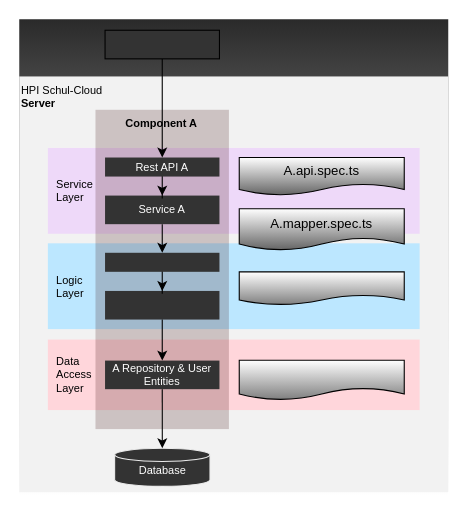
This 466x515 diagram has some shape labels left out. Here are the shapes that lost their labels. From the top down, the centre of each, then its label:
[161,44]: HPI Clients
[162,261]: A UseCase Facade
[162,304]: A UserCase(s)
[321,288]: A.uc.spec.ts
[321,379]: A.repo.integration.ts
